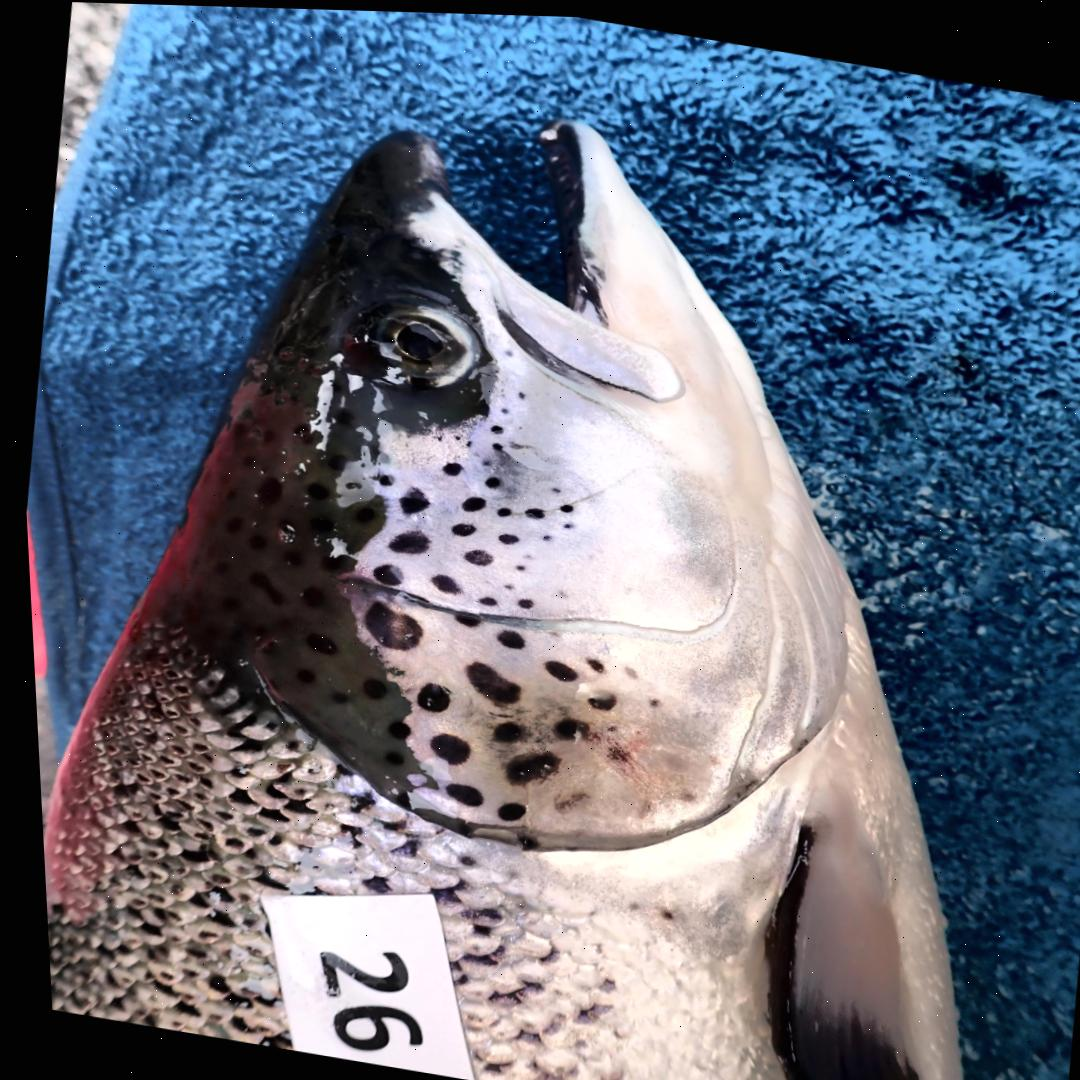spot: (358, 599, 415, 648), (458, 658, 511, 703), (497, 749, 551, 782), (421, 730, 462, 763), (408, 681, 441, 710), (383, 528, 422, 552), (437, 780, 474, 804), (545, 714, 580, 736), (393, 486, 422, 512), (366, 561, 395, 584), (545, 789, 580, 808), (537, 657, 568, 678), (423, 571, 454, 592), (487, 799, 517, 818), (597, 739, 623, 760), (486, 719, 513, 739), (490, 626, 516, 646), (457, 546, 486, 563), (580, 691, 606, 707), (457, 494, 481, 509), (509, 831, 529, 847), (448, 612, 474, 624), (446, 520, 469, 533), (437, 459, 455, 473), (579, 655, 596, 669), (517, 504, 538, 515), (492, 531, 512, 541), (479, 473, 494, 486), (377, 664, 396, 674), (370, 472, 386, 483), (471, 593, 488, 603), (511, 595, 526, 605), (491, 503, 506, 513), (553, 500, 567, 509), (485, 422, 497, 431), (641, 695, 651, 703), (487, 440, 497, 447), (476, 456, 486, 463), (512, 387, 520, 395), (556, 519, 567, 524), (536, 531, 545, 537), (543, 484, 553, 489), (509, 561, 517, 567), (459, 437, 467, 443), (496, 404, 504, 410), (498, 581, 506, 586), (430, 432, 436, 437), (447, 432, 454, 436)
